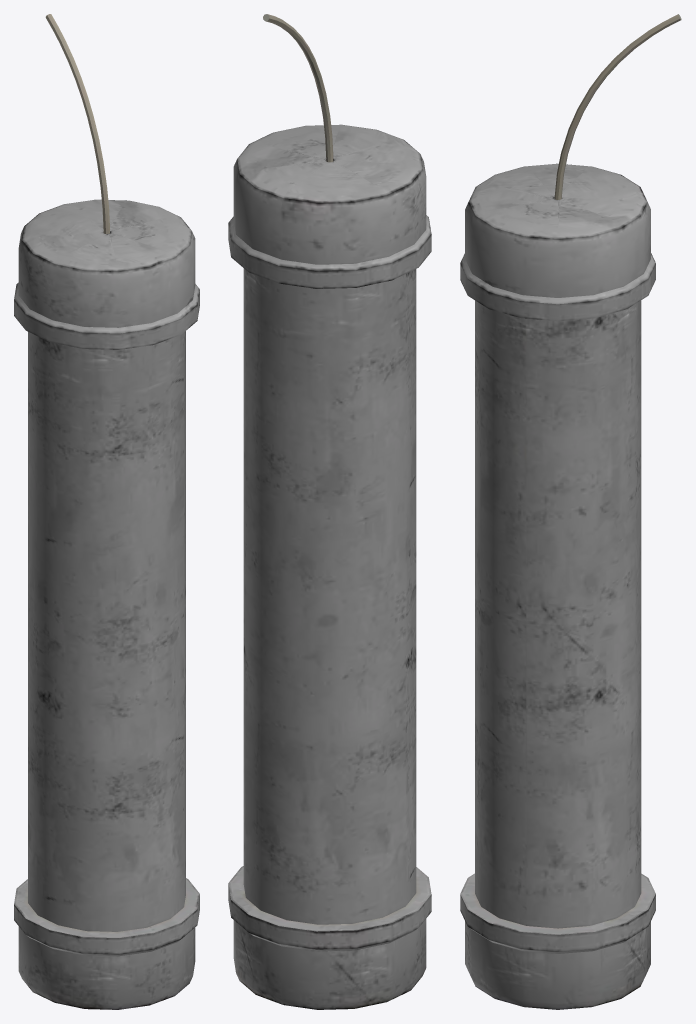
File: Pipe_Bomb.glb
The picture shows the model from 3 angles, left to right: view 1: azimuth 30°, elevation 25°; view 2: azimuth 150°, elevation 25°; view 3: azimuth 270°, elevation 25°; orthographic projection. The views are drawn at different scales.
Parts seen in each view (by area): view 1: Pipe_Bomb; view 2: Pipe_Bomb; view 3: Pipe_Bomb.
Boxes of the visible parts, x1=… form: Pipe_Bomb: x1=14, y1=14, x2=199, y2=1009; Pipe_Bomb: x1=228, y1=14, x2=431, y2=1009; Pipe_Bomb: x1=460, y1=14, x2=681, y2=1009.
Size of the model in its own units: 0.047 by 0.2548 by 0.0532.
1 material, 1 textured.
